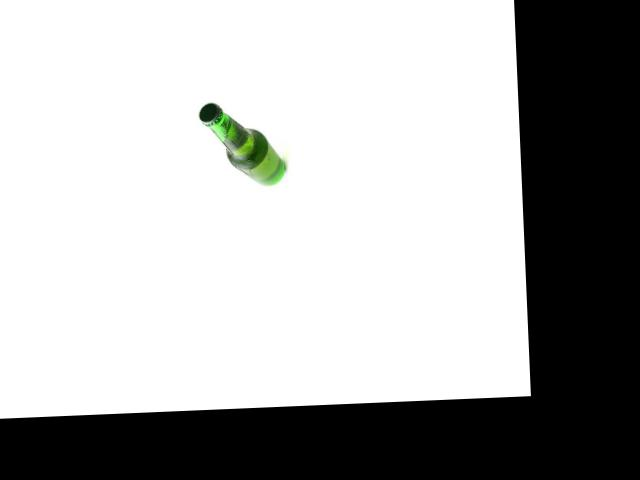beer: (198, 99, 286, 188)
